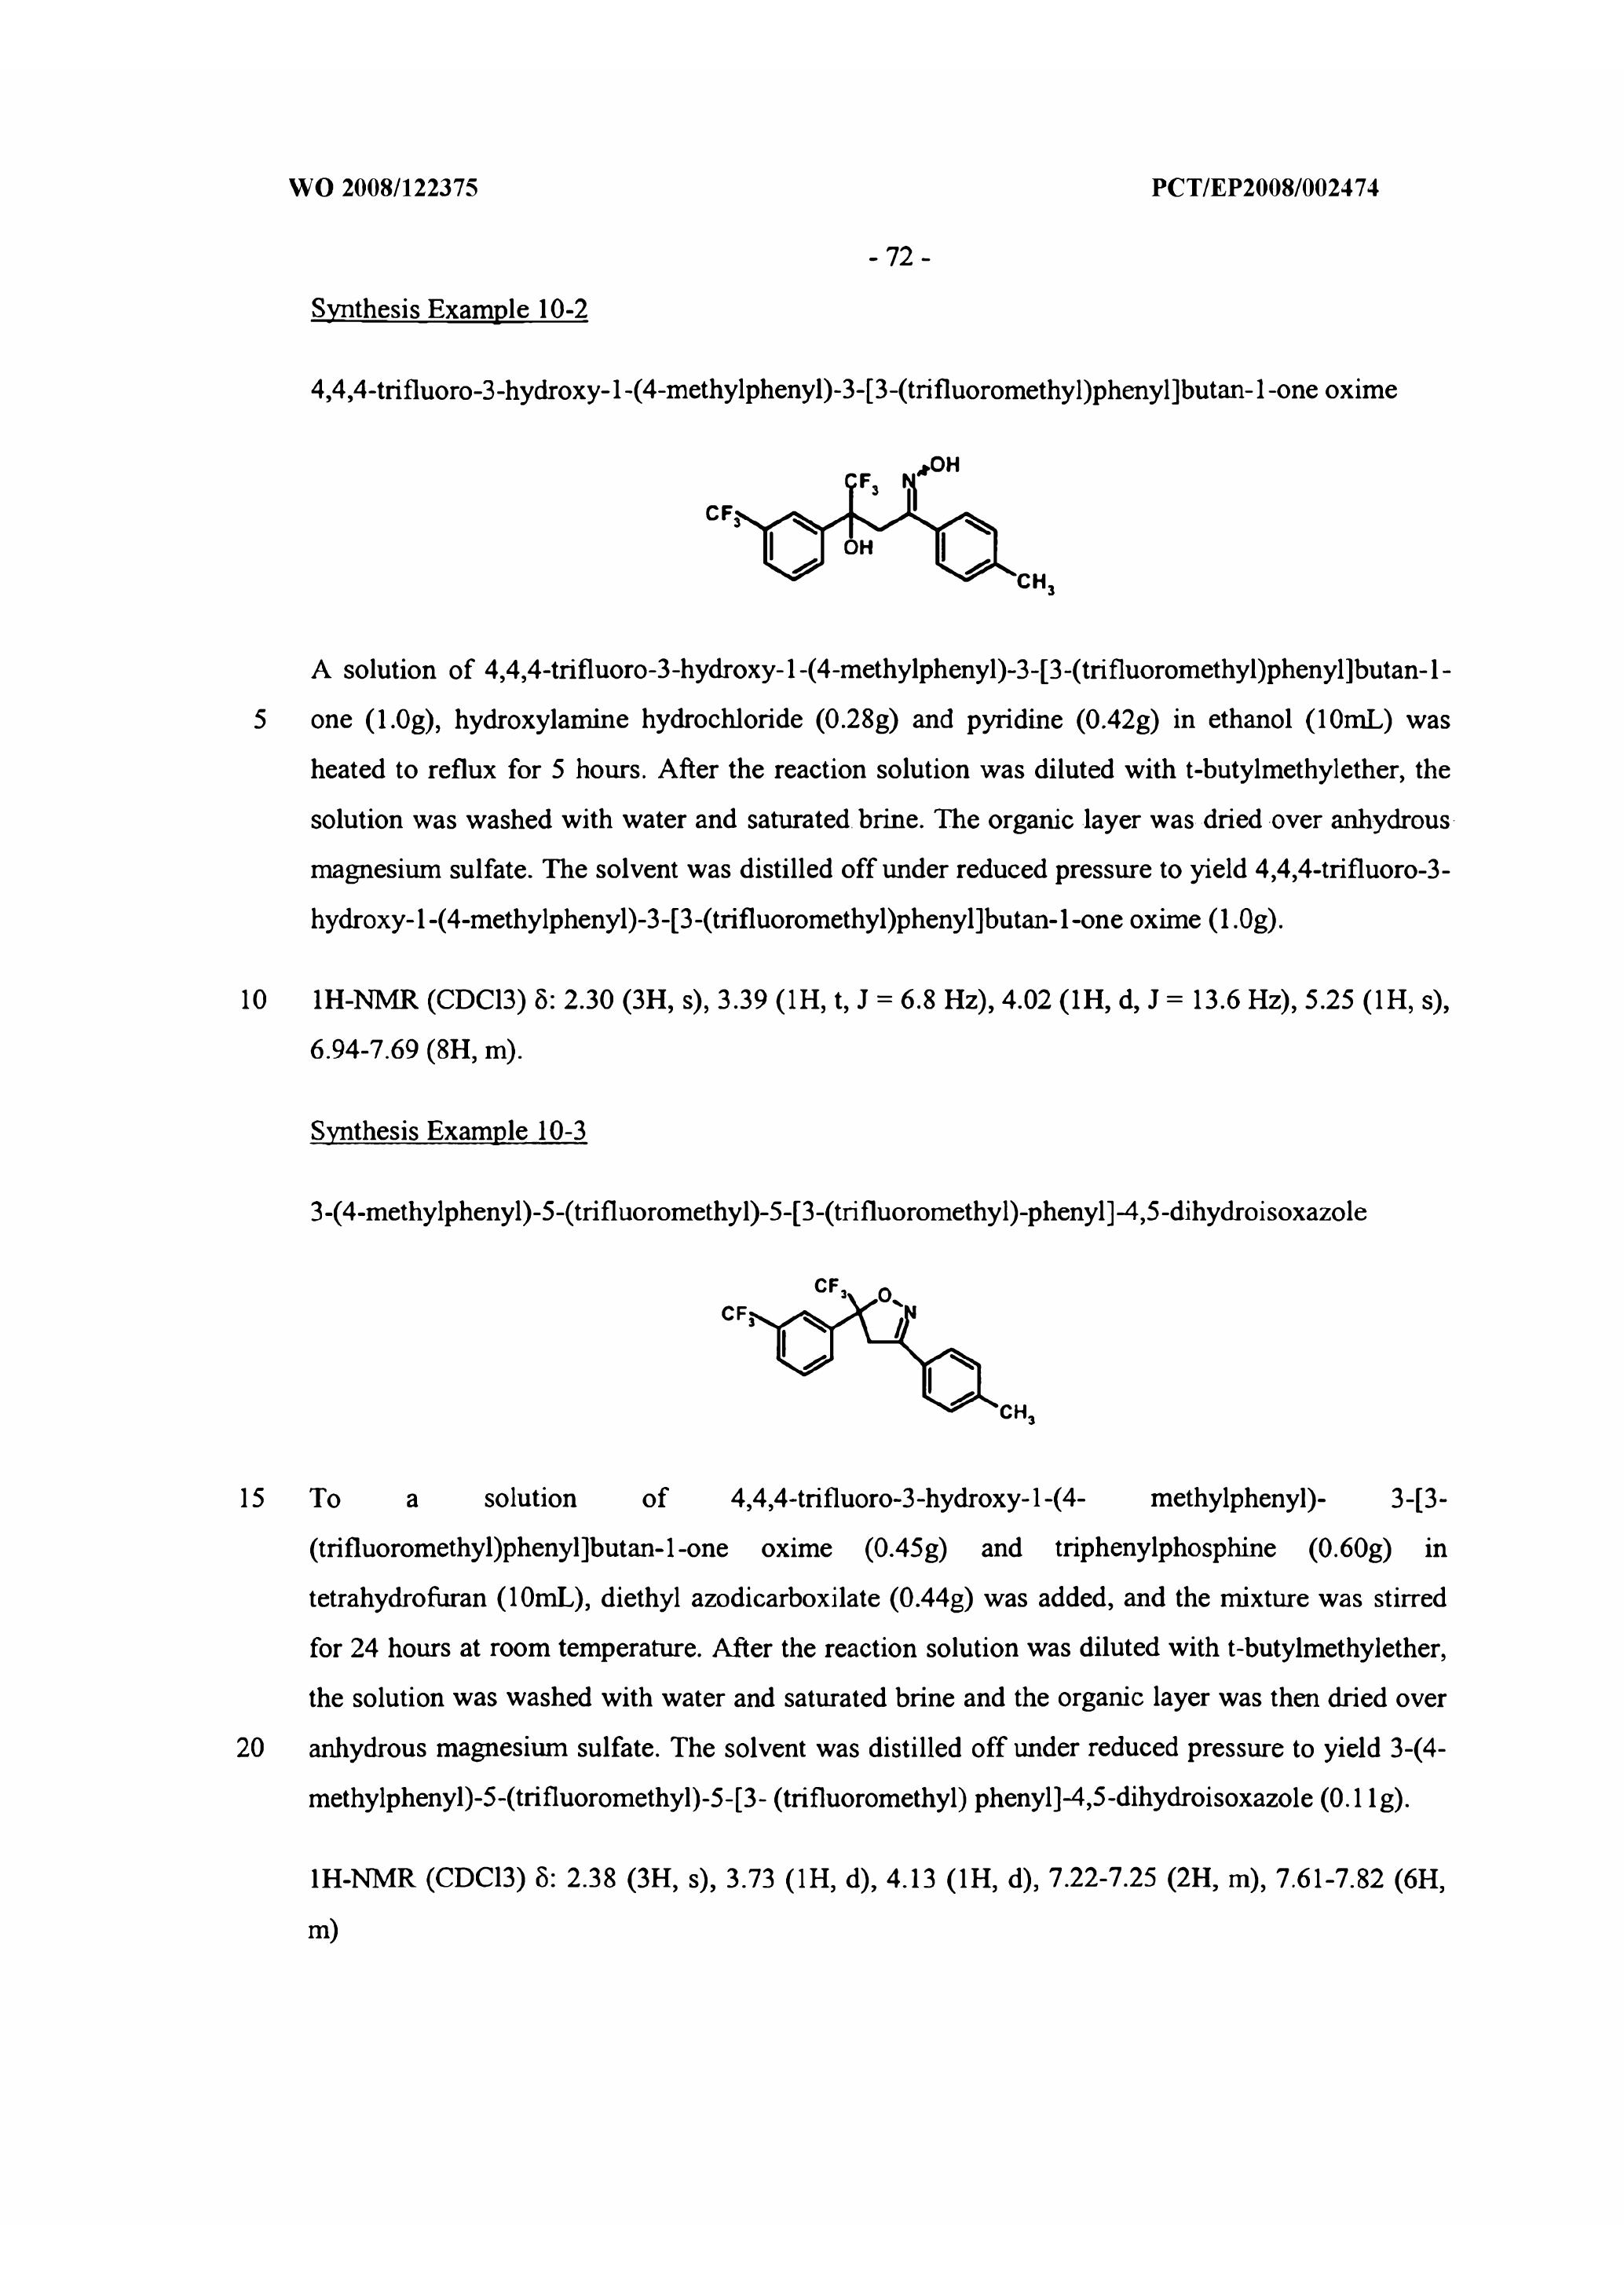relevant-structures: (610, 413, 1146, 642), (700, 1255, 1077, 1468)
